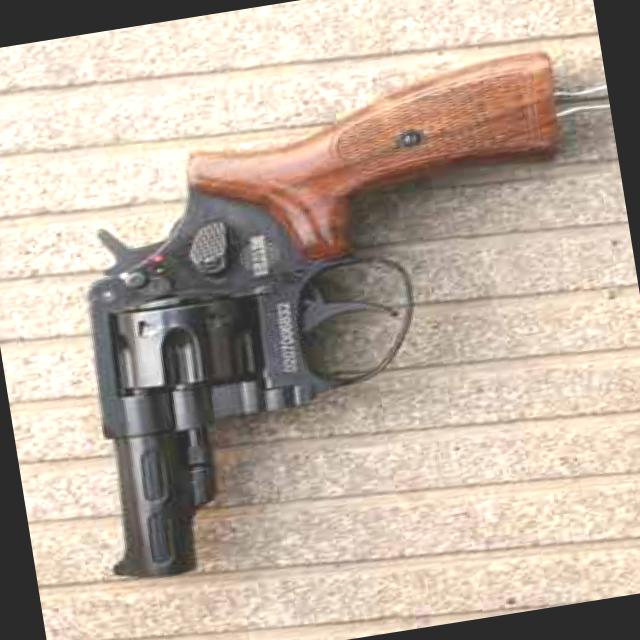handgun: (40, 49, 620, 586)
